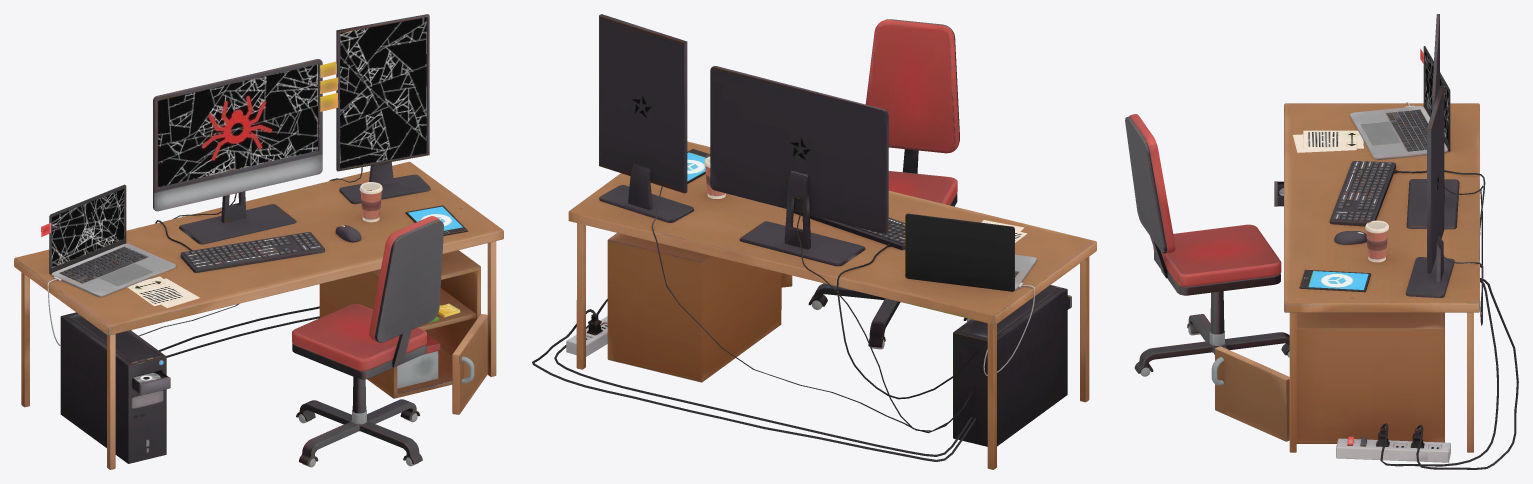
The model's file is stylized_pc1_final.glb.
The picture shows the model from 3 angles, left to right: view 1: azimuth 30°, elevation 25°; view 2: azimuth 150°, elevation 25°; view 3: azimuth 270°, elevation 25°; orthographic projection. The views are drawn at different scales.
Visible parts, largest first — view 1: Final_lambert1_0; view 2: Final_lambert1_0; view 3: Final_lambert1_0.
Part boxes in pixels (x1,y1,x2,y2): Final_lambert1_0: (14,14,503,469); Final_lambert1_0: (532,14,1096,469); Final_lambert1_0: (1125,14,1518,469).
Size of the model in its own units: 77318 by 53805 by 59319.
Materials: 1 (1 with a texture image).
